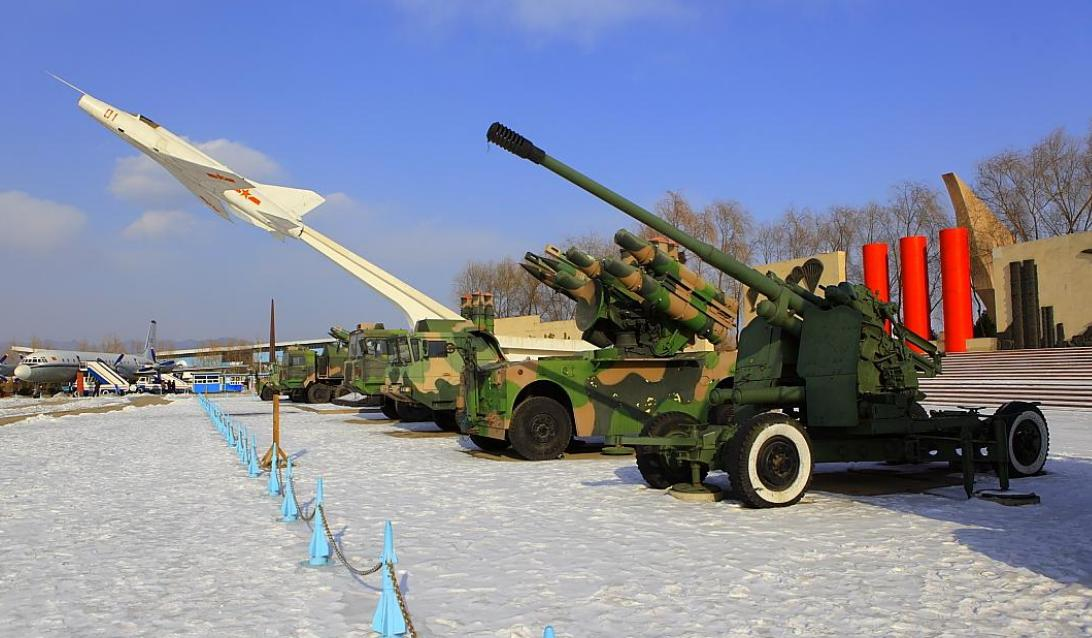MIL_SPG: (488, 124, 1049, 508)
